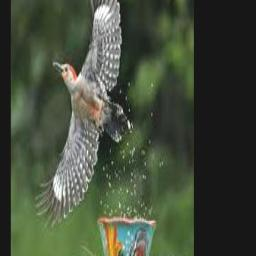Woodpecker: (35, 0, 129, 224)
